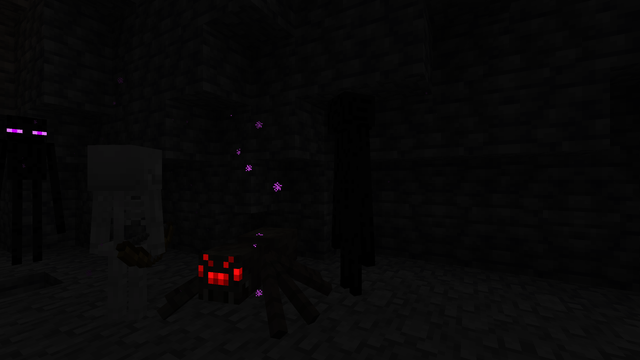araignees: (167, 222, 322, 349)
endermens: (322, 82, 375, 303), (1, 109, 53, 269)
squelettes: (84, 143, 167, 336)
